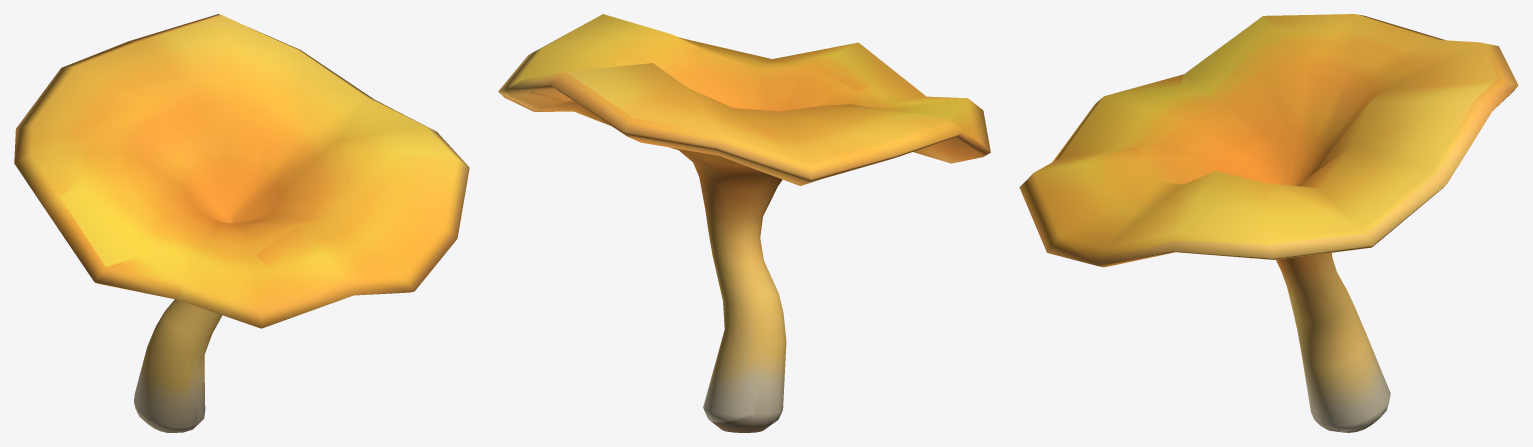
Rendered from sieni3.fbx.
3 views of the same model, side by side, from view 1: azimuth 30°, elevation 25°; view 2: azimuth 150°, elevation 25°; view 3: azimuth 270°, elevation 25° (orthographic). The views are drawn at different scales.
Parts seen in each view (by area): view 1: kantarelli1; view 2: kantarelli1; view 3: kantarelli1.
Boxes of the visible parts, left/top/right/bottom form: kantarelli1: left=14, top=14, right=469, bottom=432; kantarelli1: left=498, top=14, right=990, bottom=432; kantarelli1: left=1019, top=14, right=1518, bottom=432.
Size of the model in its own units: 193 by 161 by 189.
